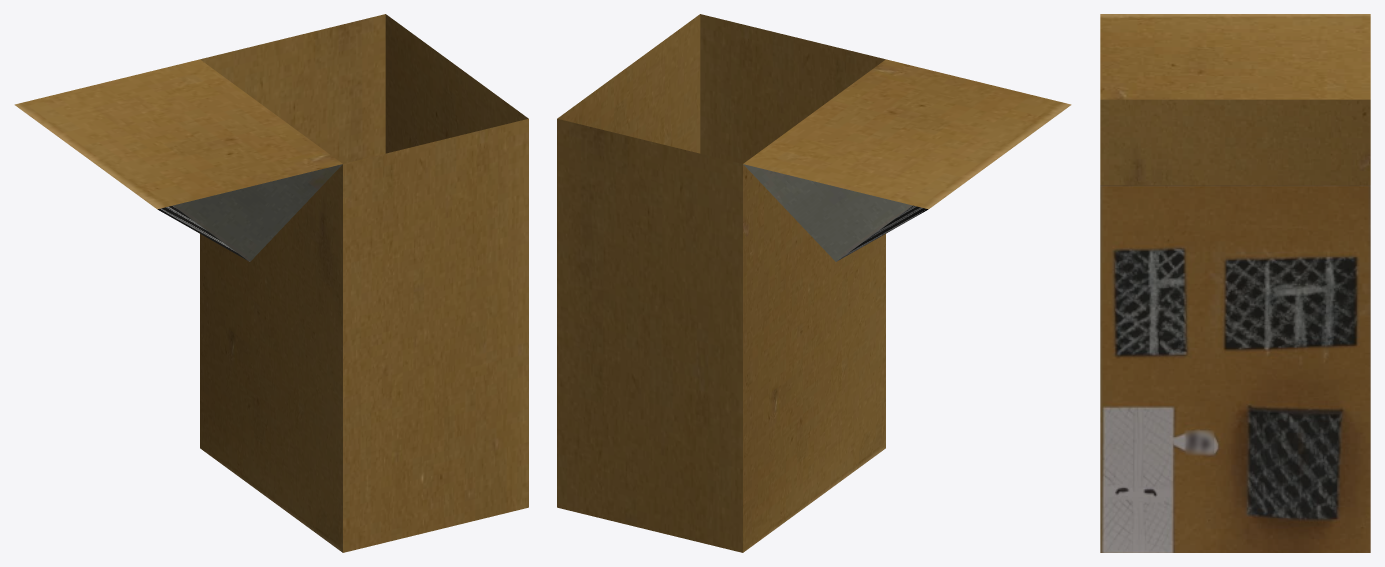
3 views of the same model, side by side, from view 1: azimuth 30°, elevation 25°; view 2: azimuth 150°, elevation 25°; view 3: azimuth 270°, elevation 25° (orthographic). The views are drawn at different scales.
Parts seen in each view (by area): view 1: Cube, Cube.002, Cube.003; view 2: Cube, Cube.002, Cube.003; view 3: Cube, Cube.003, Cube.002.
Part boxes in pixels (left/top/right/bottom): Cube: left=200, top=118, right=528, bottom=552; Cube.002: left=14, top=59, right=342, bottom=261; Cube.003: left=200, top=14, right=528, bottom=163; Cube: left=557, top=118, right=885, bottom=552; Cube.002: left=743, top=59, right=1071, bottom=261; Cube.003: left=557, top=14, right=885, bottom=163; Cube: left=1100, top=185, right=1370, bottom=552; Cube.003: left=1100, top=99, right=1370, bottom=185; Cube.002: left=1100, top=14, right=1370, bottom=99.
Bounding box in the file's own units: 15 × 15 × 10.
Materials: 1 (1 with a texture image).
